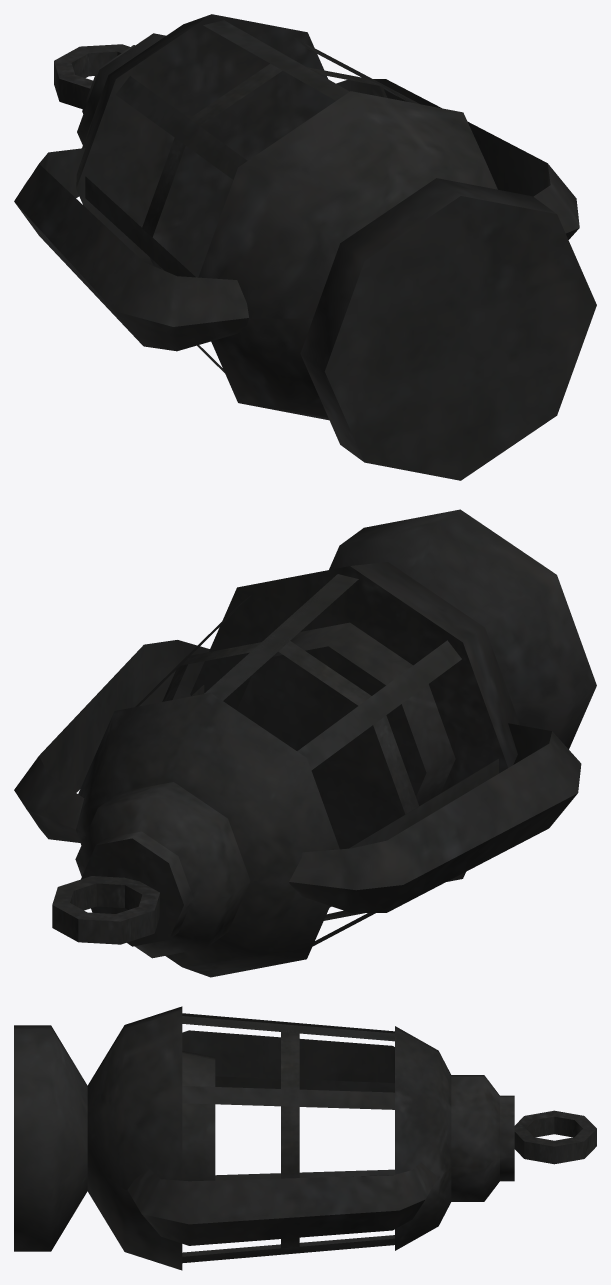
Rendered from Lantern_A.fbx.
3 views of the same model, one above another, from view 1: azimuth 30°, elevation 25°; view 2: azimuth 150°, elevation 25°; view 3: azimuth 270°, elevation 25° (orthographic). The views are drawn at different scales.
Parts seen in each view (by area): view 1: Lantern_A; view 2: Lantern_A; view 3: Lantern_A.
Boxes of the visible parts, x1=… form: Lantern_A: x1=14, y1=14, x2=596, y2=480; Lantern_A: x1=14, y1=509, x2=596, y2=977; Lantern_A: x1=14, y1=1006, x2=596, y2=1270.
Size of the model in its own units: 0.5831 by 0.4021 by 0.8332.
